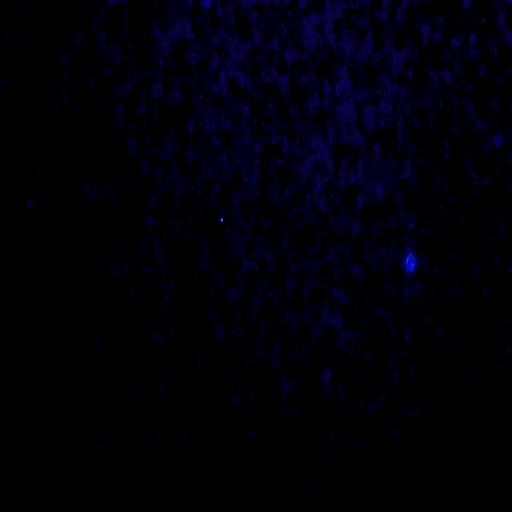object-detection-project: (405, 253, 416, 273), (220, 218, 223, 221)
